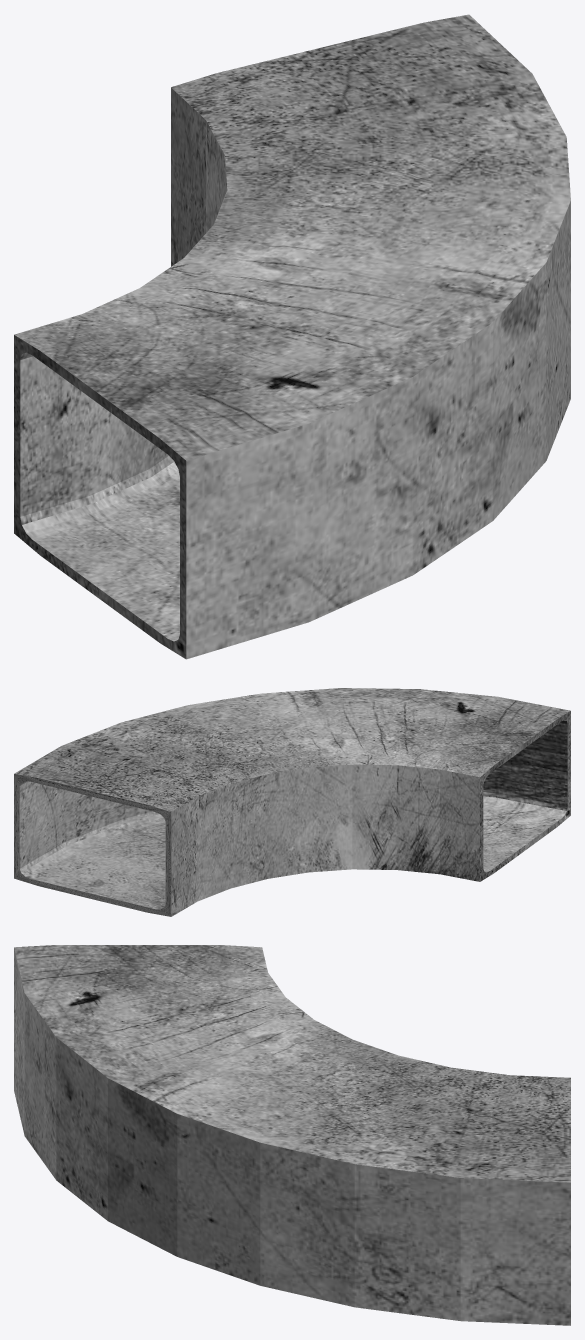
Rendered from vent_corner+.fbx.
The picture shows the model from 3 angles, top to bottom: view 1: azimuth 30°, elevation 25°; view 2: azimuth 150°, elevation 25°; view 3: azimuth 270°, elevation 25°; orthographic projection. The views are drawn at different scales.
Parts seen in each view (by area): view 1: Cube.005; view 2: Cube.005; view 3: Cube.005.
Boxes of the visible parts, bbox=[...] form: Cube.005: bbox=[14, 14, 570, 659]; Cube.005: bbox=[14, 688, 570, 916]; Cube.005: bbox=[14, 945, 570, 1325].
Bounding box in the file's own units: 5321 × 1554 × 5321.
